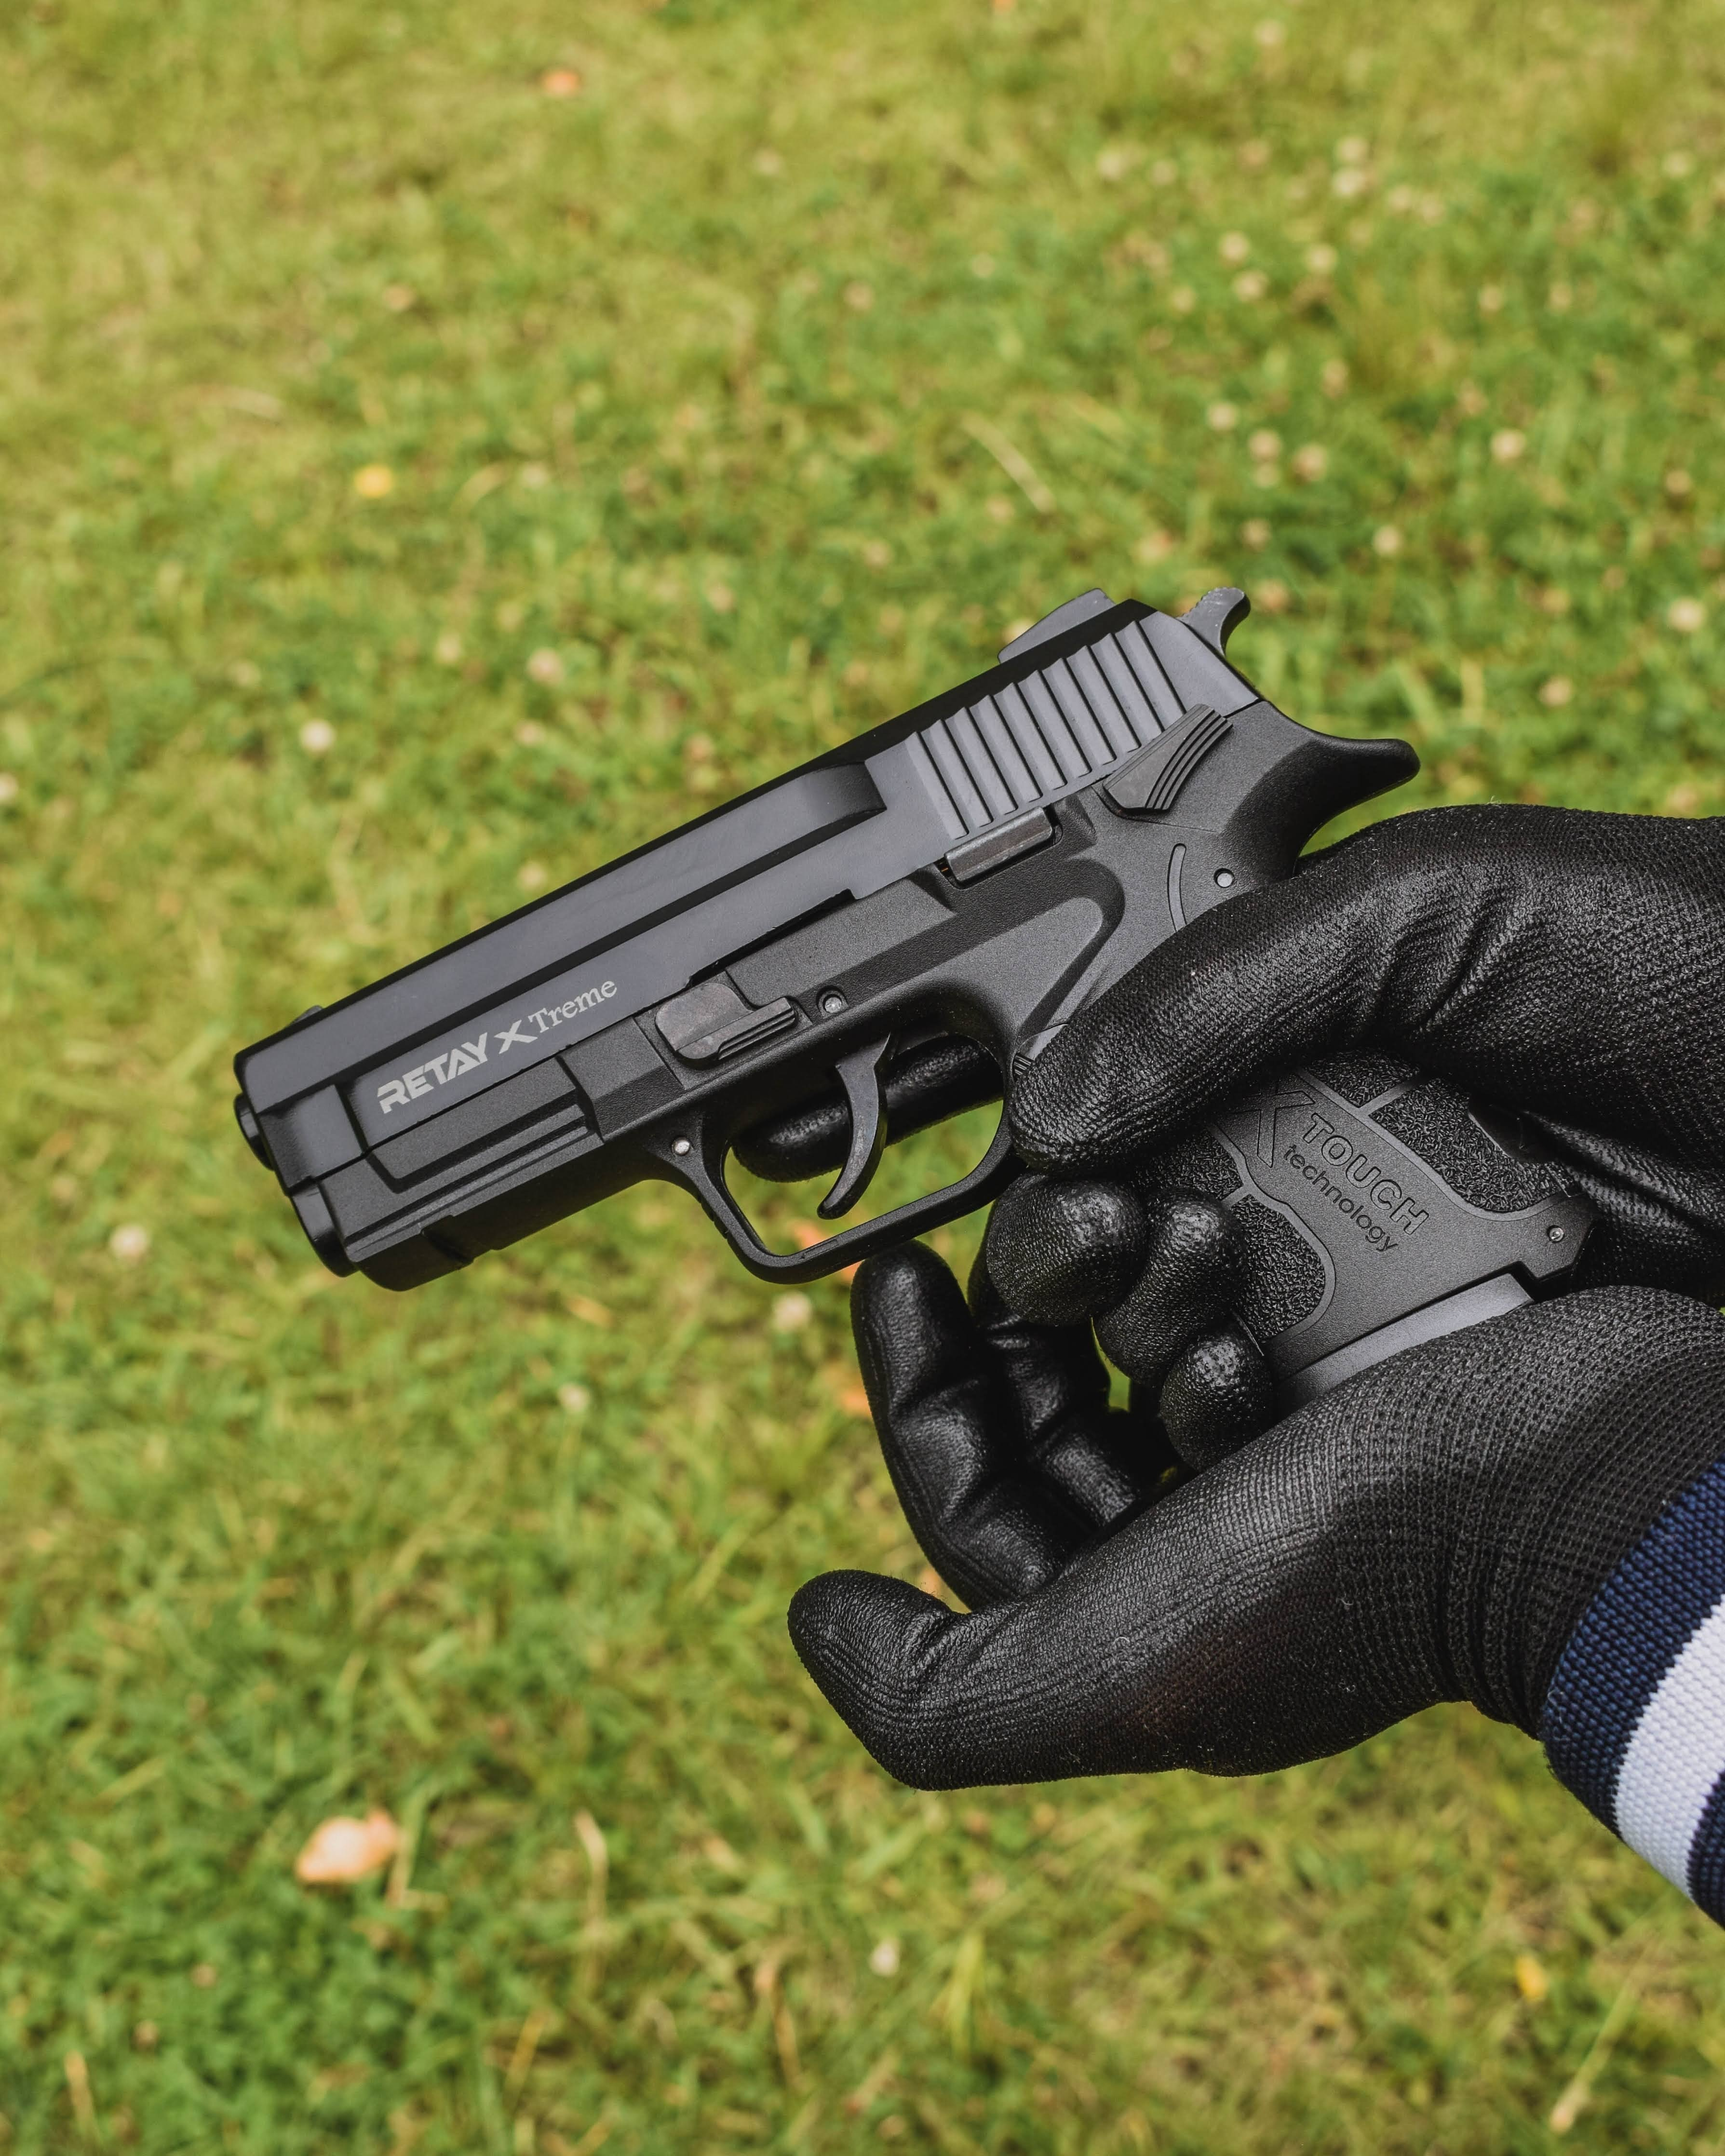gun: (218, 554, 1621, 1387)
